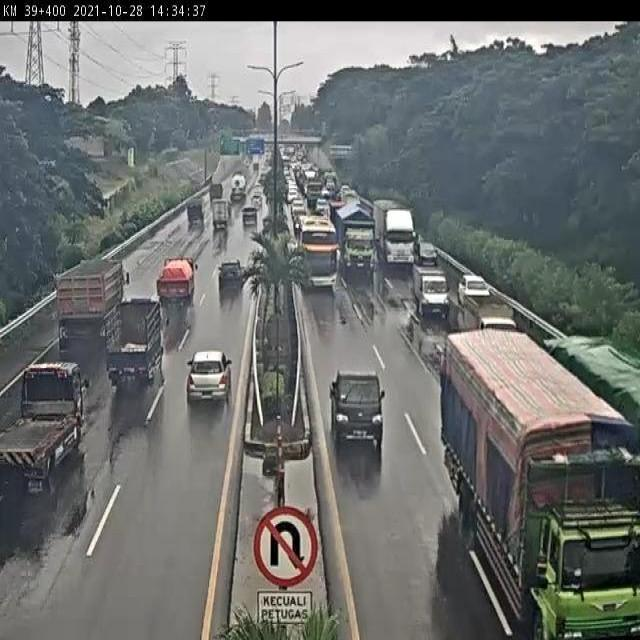big bus: (292, 211, 337, 288)
big truck: (444, 329, 640, 640), (543, 327, 640, 556), (371, 199, 413, 265), (335, 205, 373, 271)
car: (327, 368, 388, 443), (185, 351, 235, 406), (412, 264, 451, 320), (458, 270, 491, 306), (218, 257, 247, 296), (180, 201, 201, 231), (239, 208, 258, 231)
small truck: (0, 361, 90, 483), (55, 260, 128, 359), (107, 297, 167, 391), (155, 258, 199, 310), (208, 200, 227, 233)
